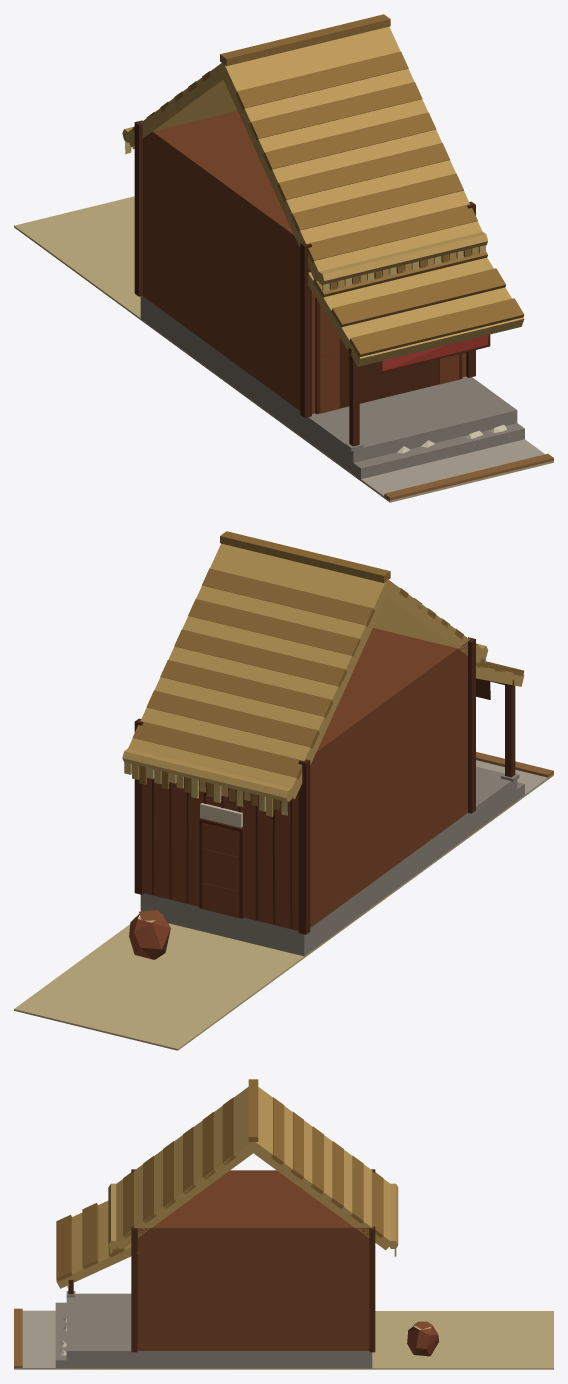
Rendered from bay2_mid.glb.
The picture shows the model from 3 angles, top to bottom: view 1: azimuth 30°, elevation 25°; view 2: azimuth 150°, elevation 25°; view 3: azimuth 270°, elevation 25°; orthographic projection. The views are drawn at different scales.
Visible parts, largest first — view 1: body; view 2: body; view 3: body.
Part boxes in pixels (x1,y1,x2,y2): body: (14, 14, 553, 502); body: (14, 531, 553, 1050); body: (14, 1079, 553, 1369).
Size of the model in its own units: 4.18 by 7.56 by 15.9.
